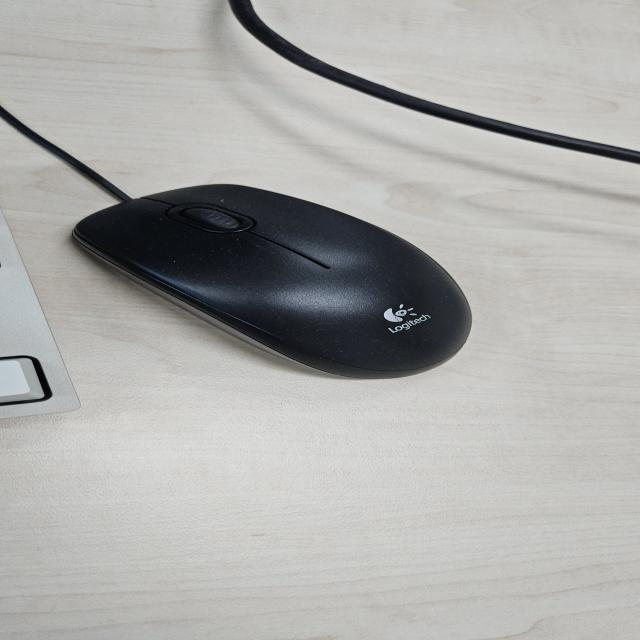Keyboard: (0, 208, 81, 420)
Mouse: (69, 182, 475, 380)
